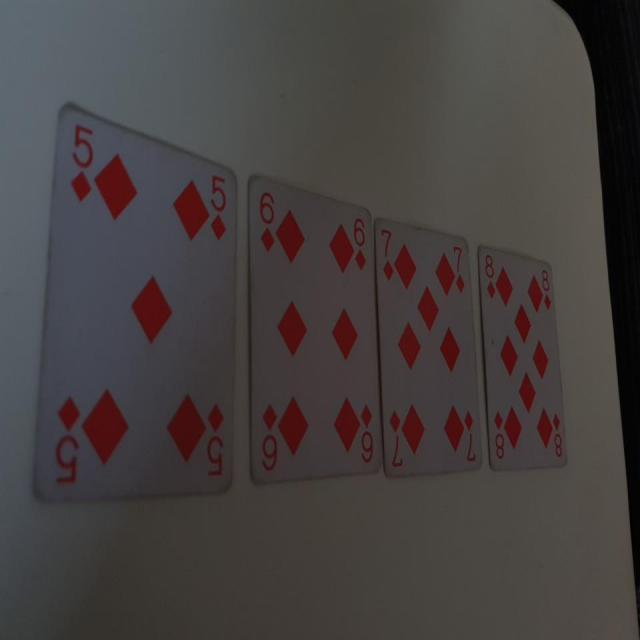5 Diamonds: (24, 98, 241, 509)
6 Diamonds: (245, 170, 384, 484)
7 Diamonds: (374, 215, 483, 472)
8 Diamonds: (477, 246, 569, 473)
